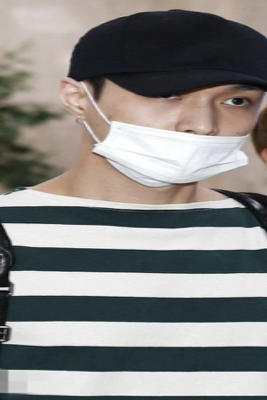mask_weared_incorrect: (85, 86, 261, 184)
